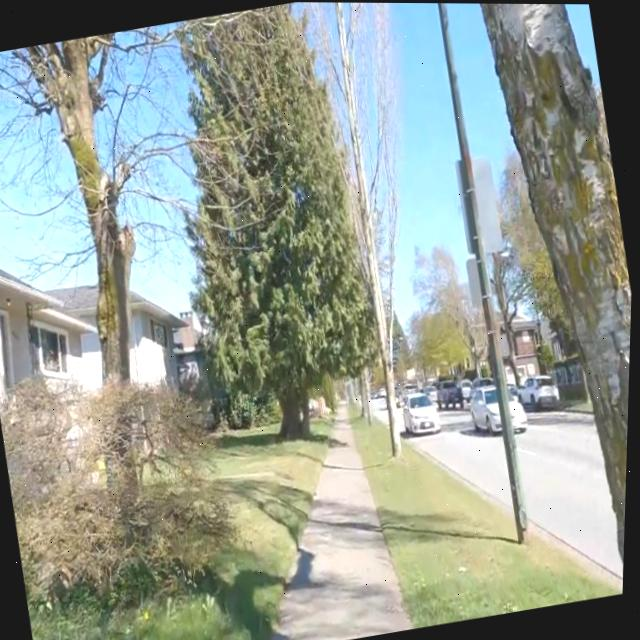Automobile: (405, 391, 442, 430), (472, 386, 503, 432), (523, 374, 560, 409), (438, 378, 466, 407), (511, 395, 530, 430)
Road: (520, 412, 623, 574), (411, 409, 514, 513)
Sidewalk: (277, 412, 414, 640)
